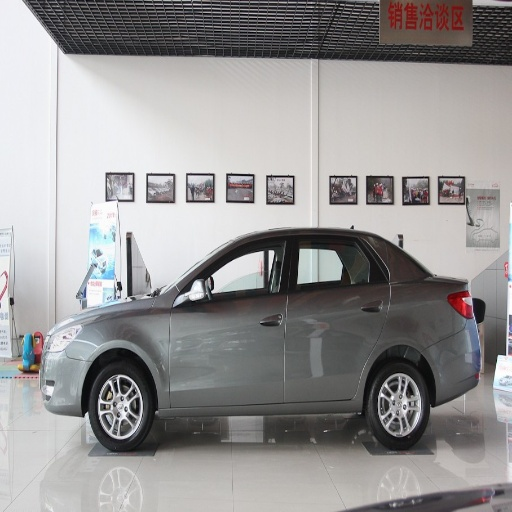back_left_door: (285, 234, 389, 400)
front_glass: (346, 2, 458, 57)
front_left_door: (170, 235, 291, 404)
